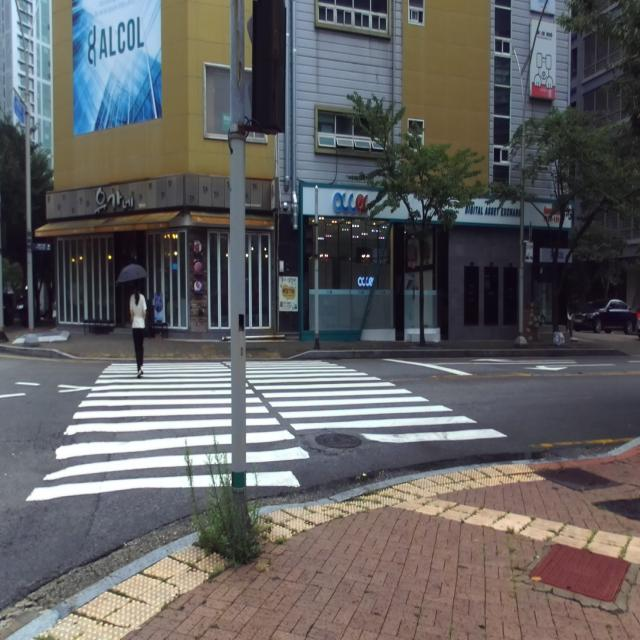횡단보도: (25, 359, 508, 502)
